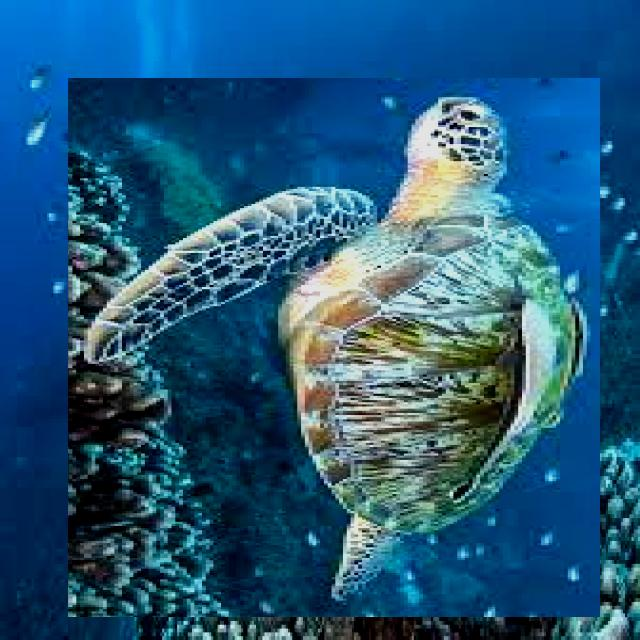Sea turtle: (66, 80, 601, 616)
